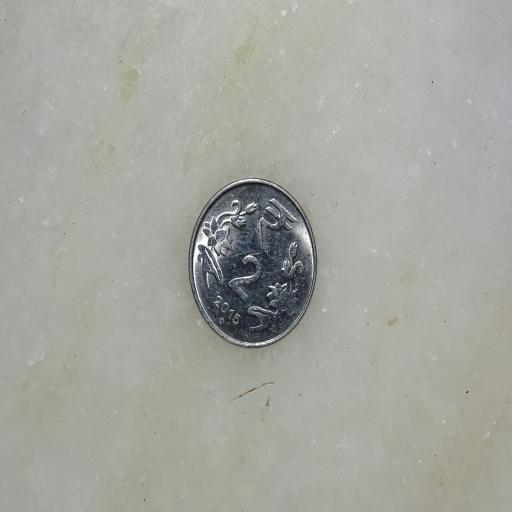rupee2: (186, 178, 320, 349)
